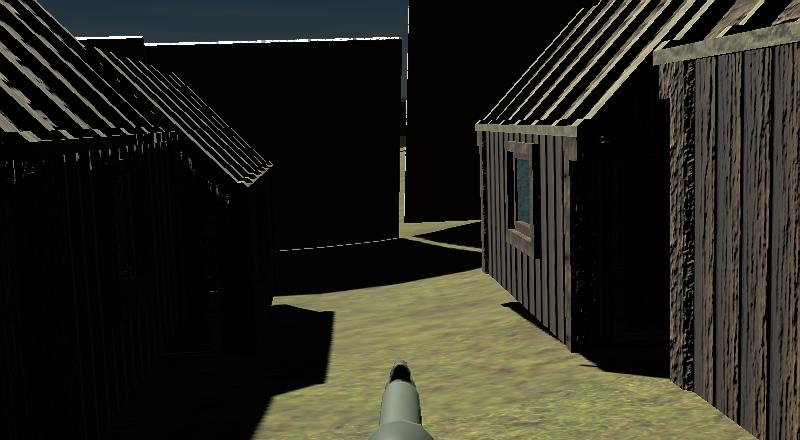House: (470, 1, 800, 378), (1, 9, 281, 440)
